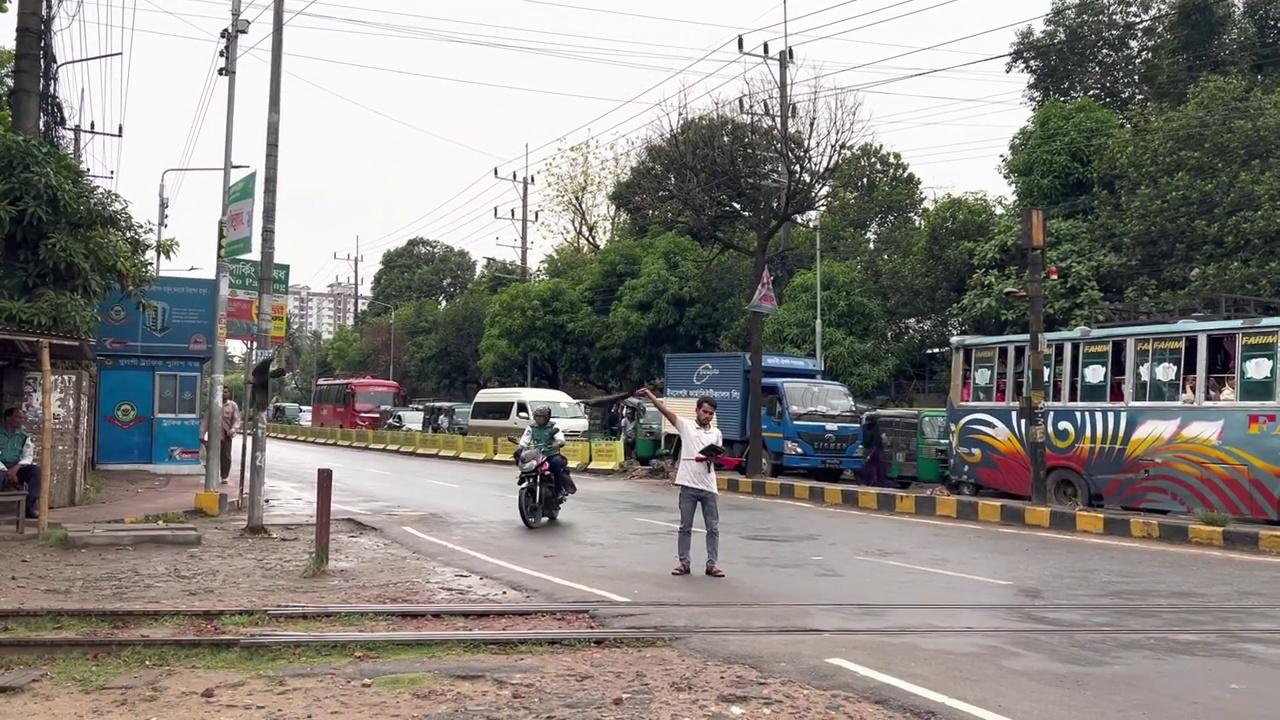Car: (263, 421, 1277, 559)
Crosswalk: (633, 421, 661, 464)
Curb: (505, 434, 572, 529)
Fence: (634, 386, 726, 578), (515, 405, 571, 502), (0, 406, 41, 518), (199, 385, 241, 485)
Garbage: (243, 0, 285, 533), (1018, 207, 1049, 505), (36, 339, 53, 535)
Motorcycle: (1, 597, 1278, 649)
Rickshaw: (942, 315, 1278, 522), (661, 351, 868, 482), (311, 374, 408, 430)
